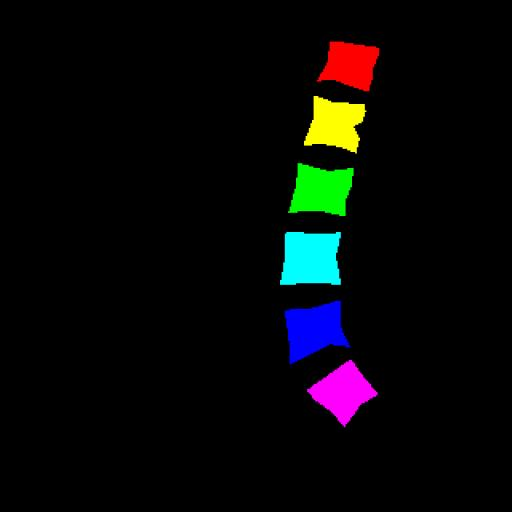L1: (317, 42, 379, 90)
L2: (304, 96, 365, 152)
L3: (289, 163, 354, 216)
L4: (280, 232, 340, 285)
L5: (285, 301, 349, 364)
S1: (307, 360, 377, 426)
